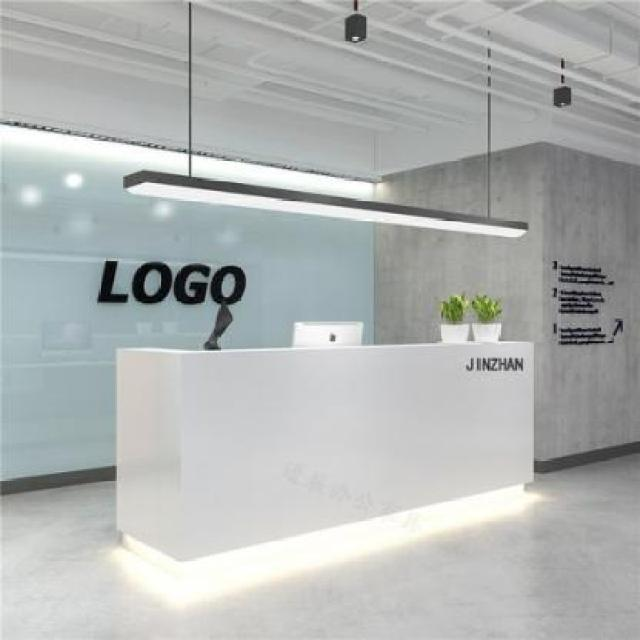frontdesk: (108, 288, 543, 575)
